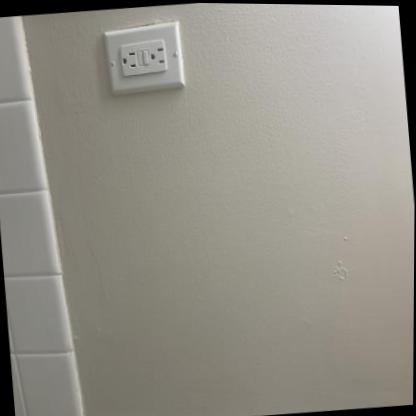OUTLET: (101, 20, 185, 98)
